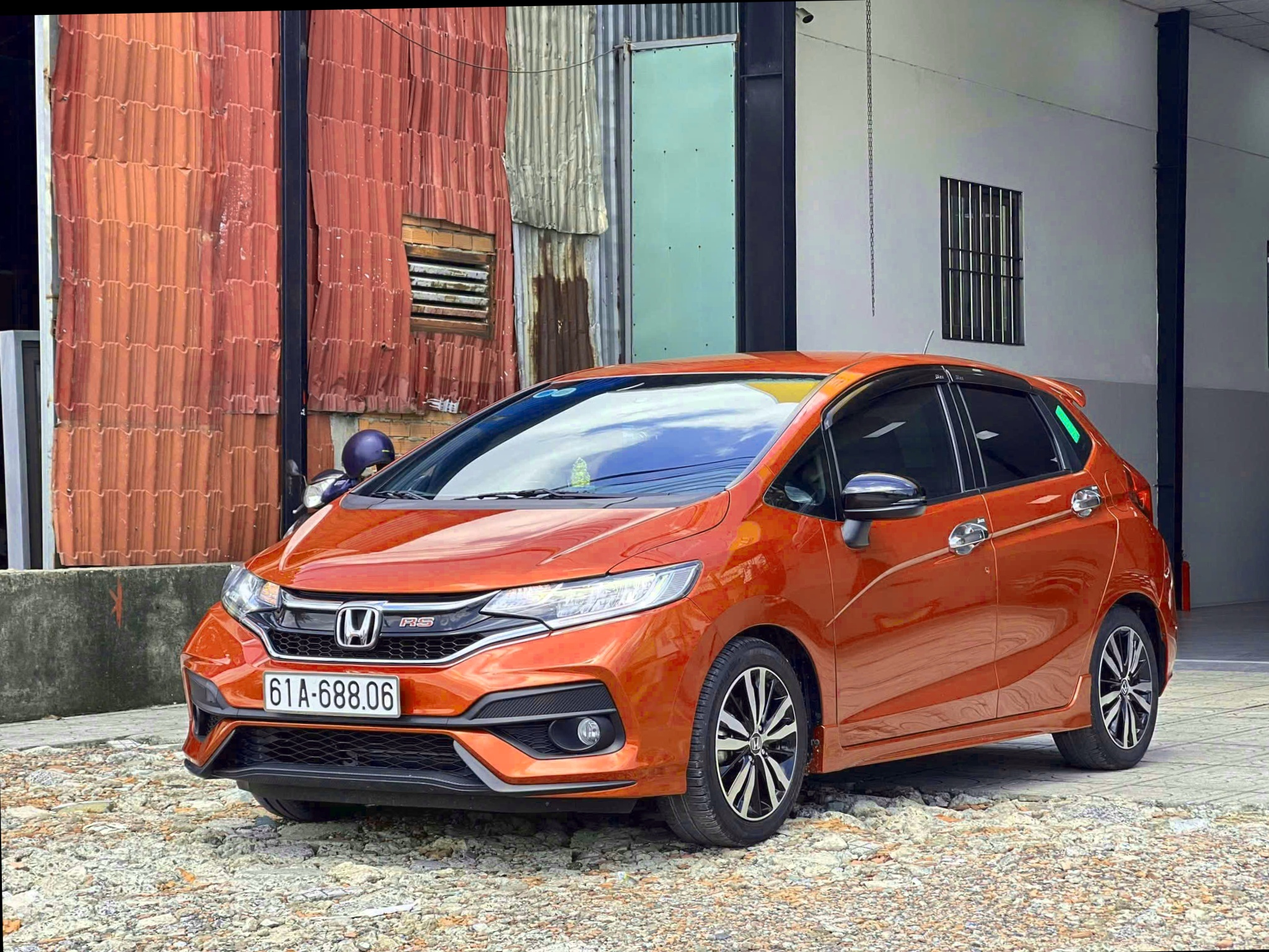Bien-so: (254, 653, 383, 703)
